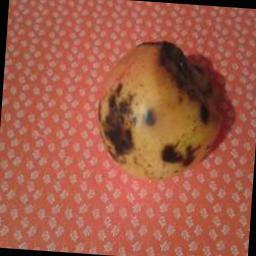Mango Rotten: (86, 24, 242, 185)
